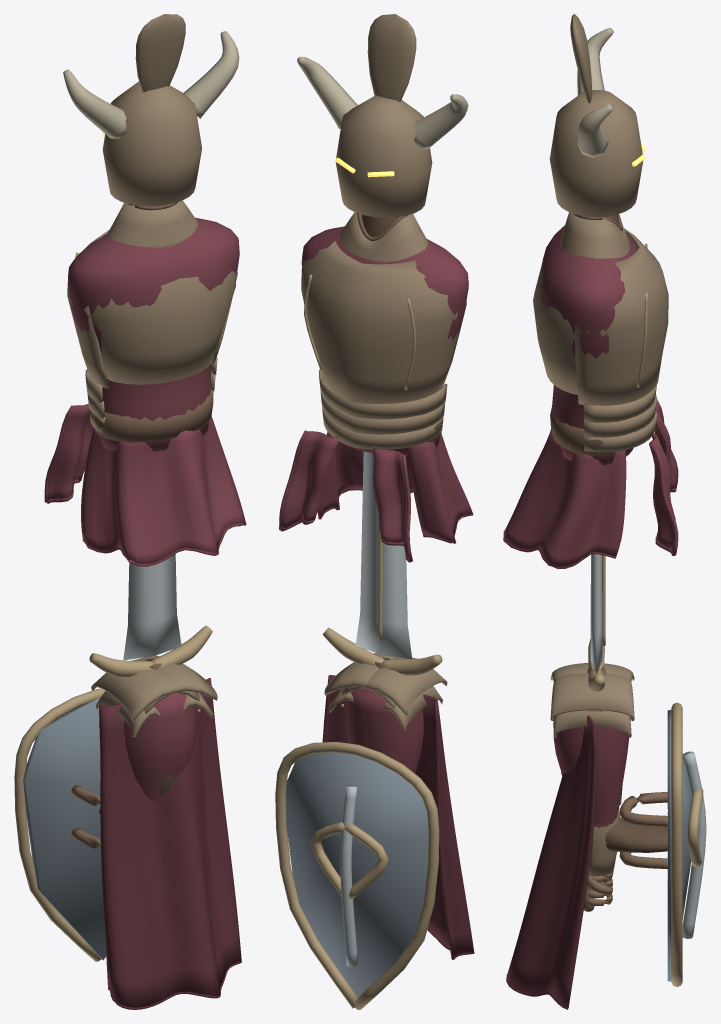
File: bulwark.glb
3 views of the same model, side by side, from view 1: azimuth 30°, elevation 25°; view 2: azimuth 150°, elevation 25°; view 3: azimuth 270°, elevation 25° (orthographic). The views are drawn at different scales.
Parts seen in each view (by area): view 1: Body__wine, Cape__wine, Body__bronze, ArmL__iron, Weapon__silver, Body__bone, ArmL__gold, LegL__wine, ArmL__bronze, Body__leather, Weapon__gold, ArmR__bronze (+2 smaller); view 2: Body__bronze, ArmL__iron, Body__wine, ArmL__gold, Cape__wine, Weapon__silver, Body__bone, LegL__wine, ArmL__bronze, Weapon__gold, ArmL__silver, ArmR__bronze (+3 smaller); view 3: Body__bronze, Body__wine, Cape__wine, ArmL__gold, ArmR__bronze, LegR__wine, ArmL__iron, Body__bone, ArmL__leather, ArmL__silver, ArmL__bronze, KneeL__leather (+4 smaller).
Boxes of the visible parts, x1=… form: Body__wine: x1=44, y1=217, x2=246, y2=566; Cape__wine: x1=99, y1=678, x2=241, y2=1009; Body__bronze: x1=67, y1=14, x2=237, y2=433; ArmL__iron: x1=23, y1=697, x2=106, y2=959; Weapon__silver: x1=123, y1=554, x2=181, y2=660; Body__bone: x1=63, y1=31, x2=239, y2=138; ArmL__gold: x1=14, y1=688, x2=106, y2=961; LegL__wine: x1=124, y1=693, x2=184, y2=801; ArmL__bronze: x1=91, y1=659, x2=199, y2=737; Body__leather: x1=93, y1=202, x2=213, y2=442; Weapon__gold: x1=89, y1=625, x2=212, y2=677; ArmR__bronze: x1=138, y1=655, x2=217, y2=718; Body__bronze: x1=301, y1=14, x2=466, y2=449; ArmL__iron: x1=286, y1=752, x2=428, y2=996; Body__wine: x1=279, y1=226, x2=473, y2=562; ArmL__gold: x1=275, y1=742, x2=439, y2=1009; Cape__wine: x1=322, y1=675, x2=474, y2=959; Weapon__silver: x1=355, y1=451, x2=412, y2=659; Body__bone: x1=297, y1=56, x2=468, y2=149; LegL__wine: x1=353, y1=688, x2=423, y2=773; ArmL__bronze: x1=341, y1=657, x2=447, y2=731; Weapon__gold: x1=322, y1=518, x2=442, y2=675; ArmL__silver: x1=340, y1=785, x2=357, y2=967; ArmR__bronze: x1=324, y1=653, x2=395, y2=712; Body__bronze: x1=533, y1=14, x2=668, y2=452; Body__wine: x1=503, y1=225, x2=678, y2=568; Cape__wine: x1=506, y1=715, x2=596, y2=1009; ArmL__gold: x1=671, y1=702, x2=703, y2=986; ArmR__bronze: x1=550, y1=673, x2=634, y2=737; LegR__wine: x1=553, y1=710, x2=630, y2=823; ArmL__iron: x1=667, y1=710, x2=691, y2=981; Body__bone: x1=577, y1=27, x2=613, y2=157; ArmL__leather: x1=584, y1=792, x2=667, y2=911; ArmL__silver: x1=682, y1=751, x2=706, y2=938; ArmL__bronze: x1=550, y1=663, x2=634, y2=876; KneeL__leather: x1=561, y1=771, x2=667, y2=852.
Bounding box in the file's own units: 0.6199 × 3.21 × 0.6061.
